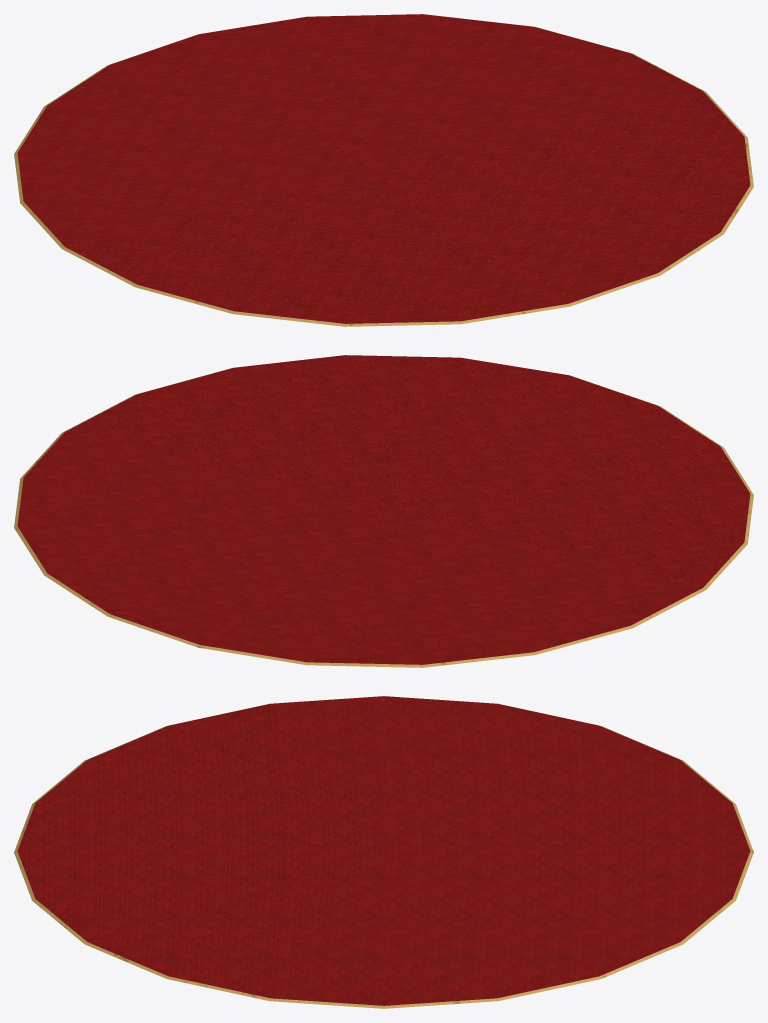
File: pm-carpet.glb
3 views of the same model, one above another, from view 1: azimuth 30°, elevation 25°; view 2: azimuth 150°, elevation 25°; view 3: azimuth 270°, elevation 25° (orthographic).
Parts seen in each view (by area): view 1: Carpet; view 2: Carpet; view 3: Carpet.
Boxes of the visible parts, <box> form: Carpet: <box>14,14,753,326</box>; Carpet: <box>14,355,753,667</box>; Carpet: <box>14,696,753,1008</box>.
Bounding box in the file's own units: 6.19 × 0.0136 × 6.19.
Materials: 2 (2 with a texture image).
